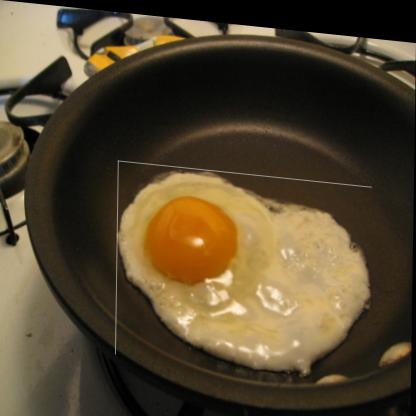egg: (116, 158, 373, 373)
